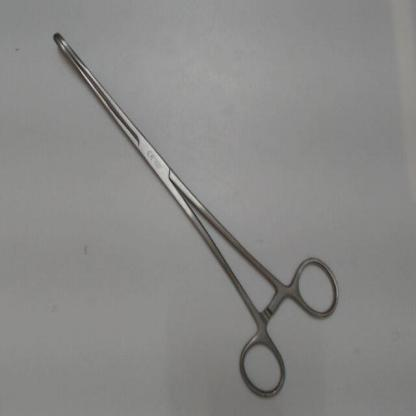Sponge Forceps: (49, 24, 346, 404)
